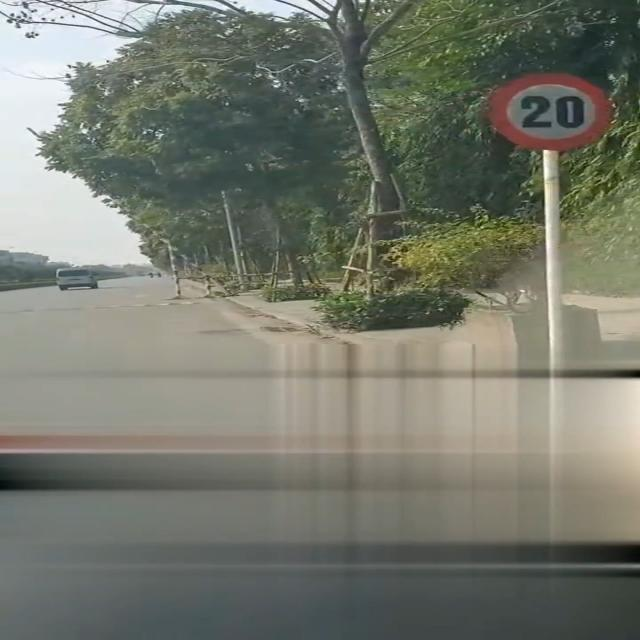127-toc-do-toi-da-20: (488, 74, 608, 150)
